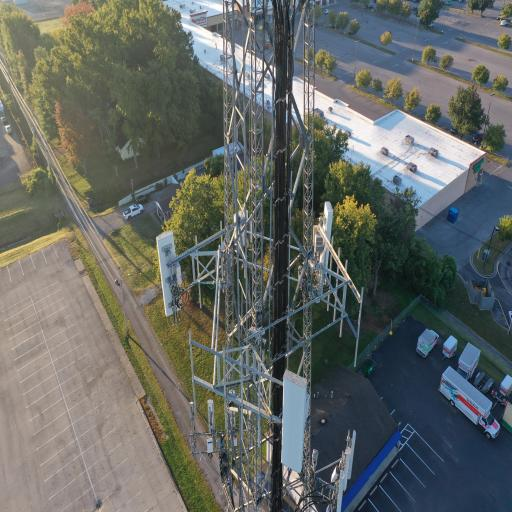supporting_tower: (148, 0, 377, 512)
